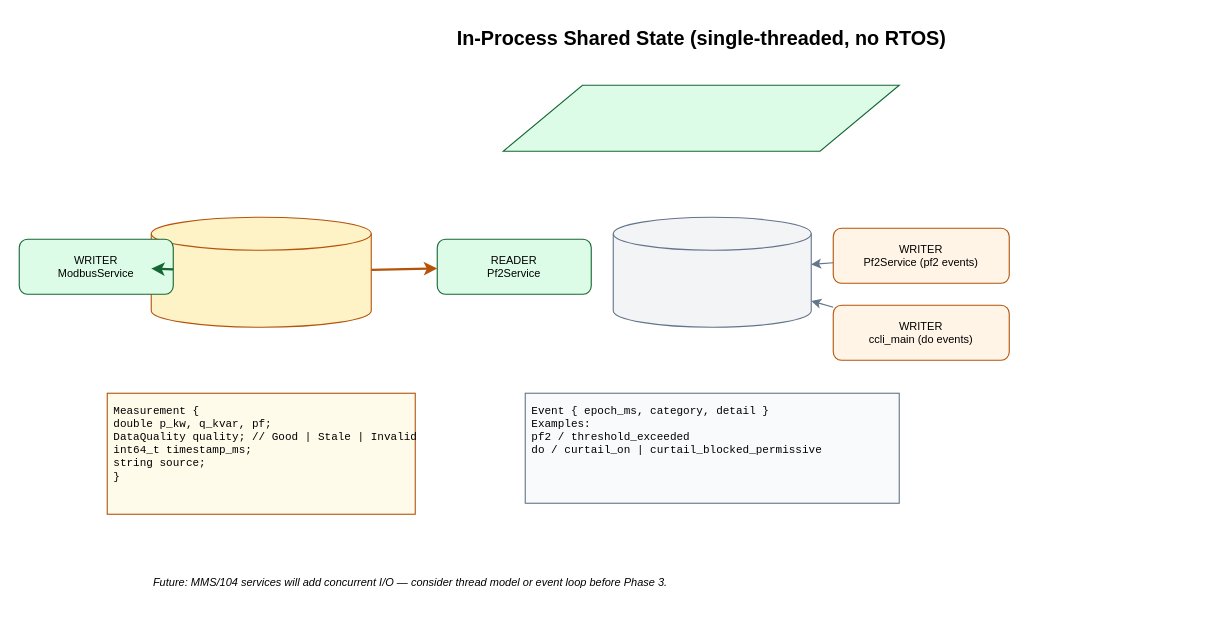
Image size: 1216x620. Some labels were removed from this diagram. The box of each missing label's shape, as (x1, y1, x2, y2) in pixels:
CcliConfig (immutable after load) Pf2Config · ModbusConfig · IoLineCfg: (502, 84, 899, 151)
EventRing: (612, 216, 811, 327)
MeasurementStore: (150, 216, 371, 327)
